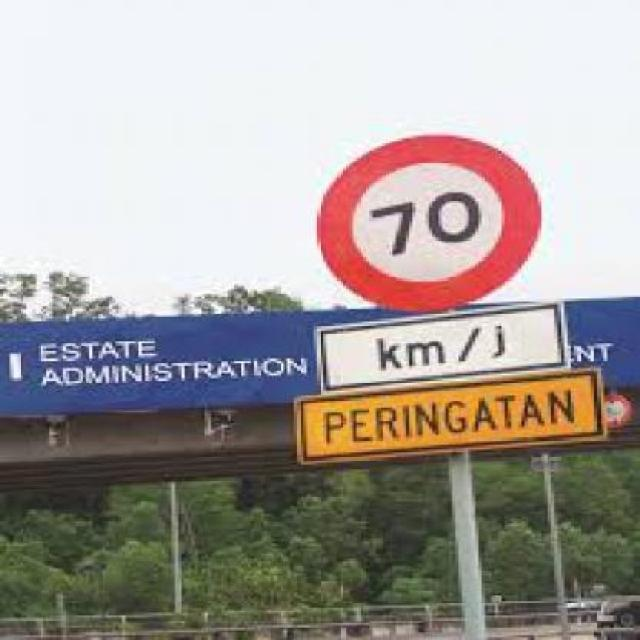forb_speed_over_70: (322, 134, 540, 305)
